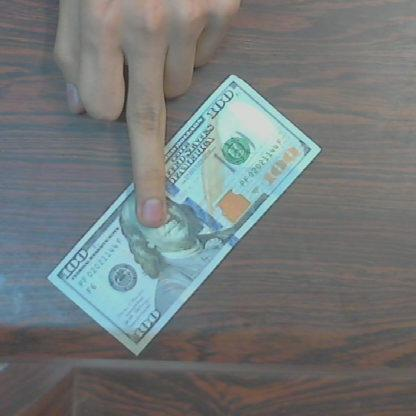one_hundred-front: (40, 70, 324, 356)
